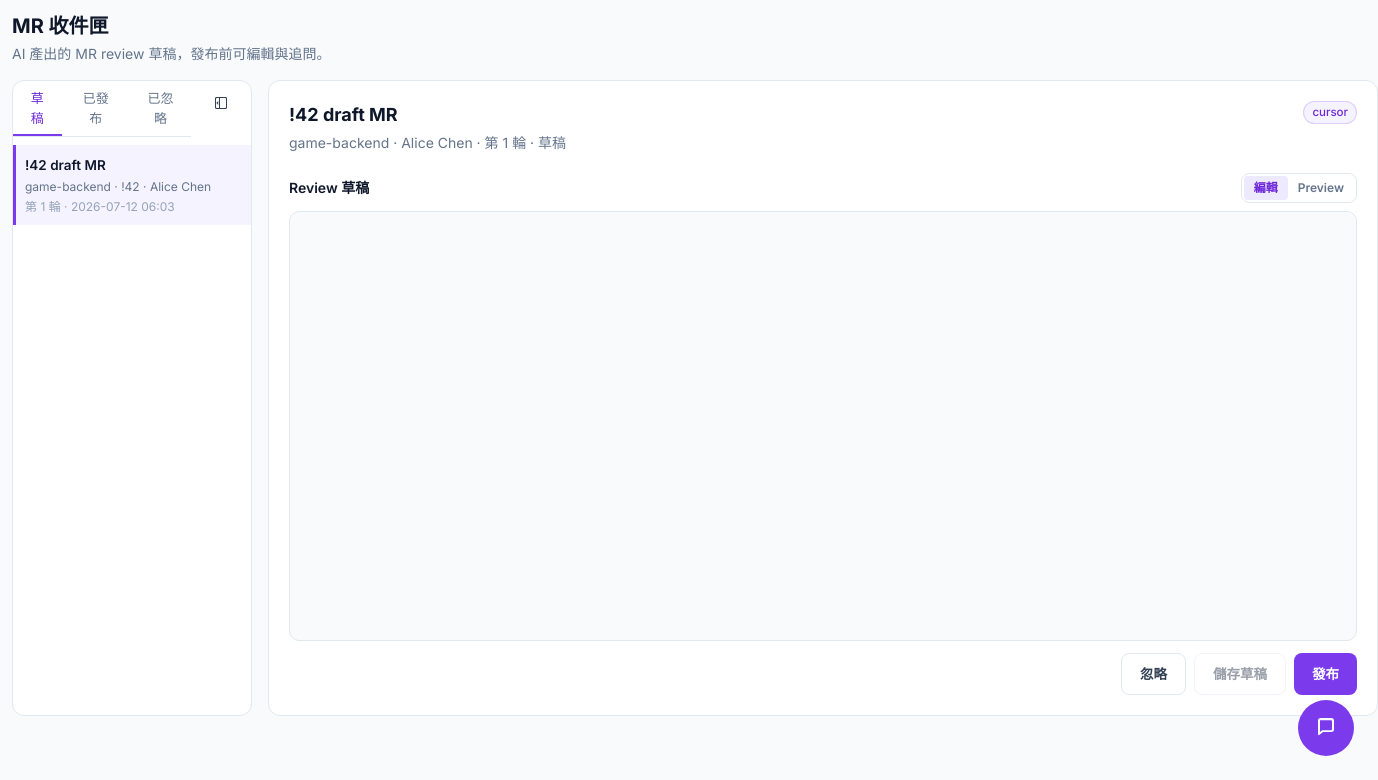
Test case: MrInboxPage › save sends base_hash and surfaces conflict choices on 409
Type "local save" into the text box labelled "Review 草稿" at (823, 426), box [289,211,1357,641]
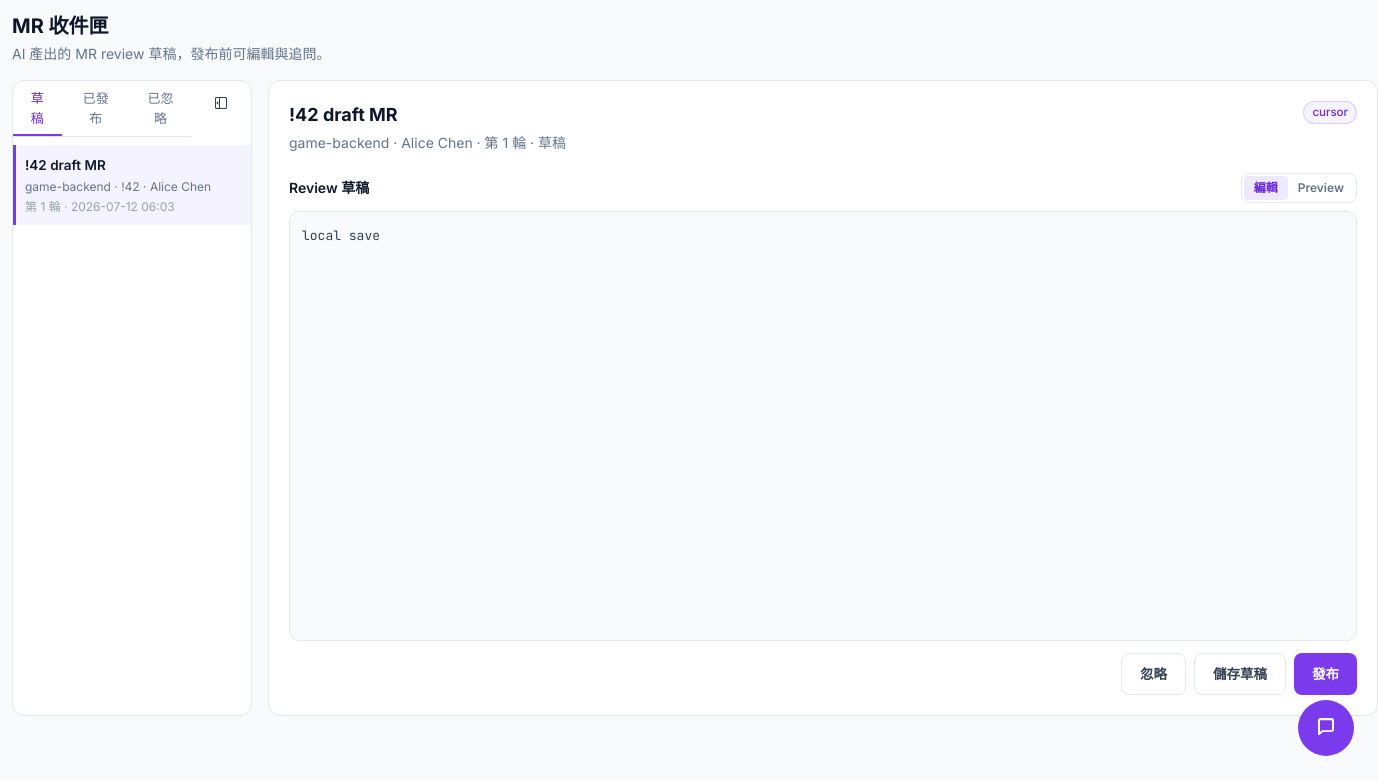
Click the button "儲存草稿" at (1240, 674), box [1194,653,1286,695]
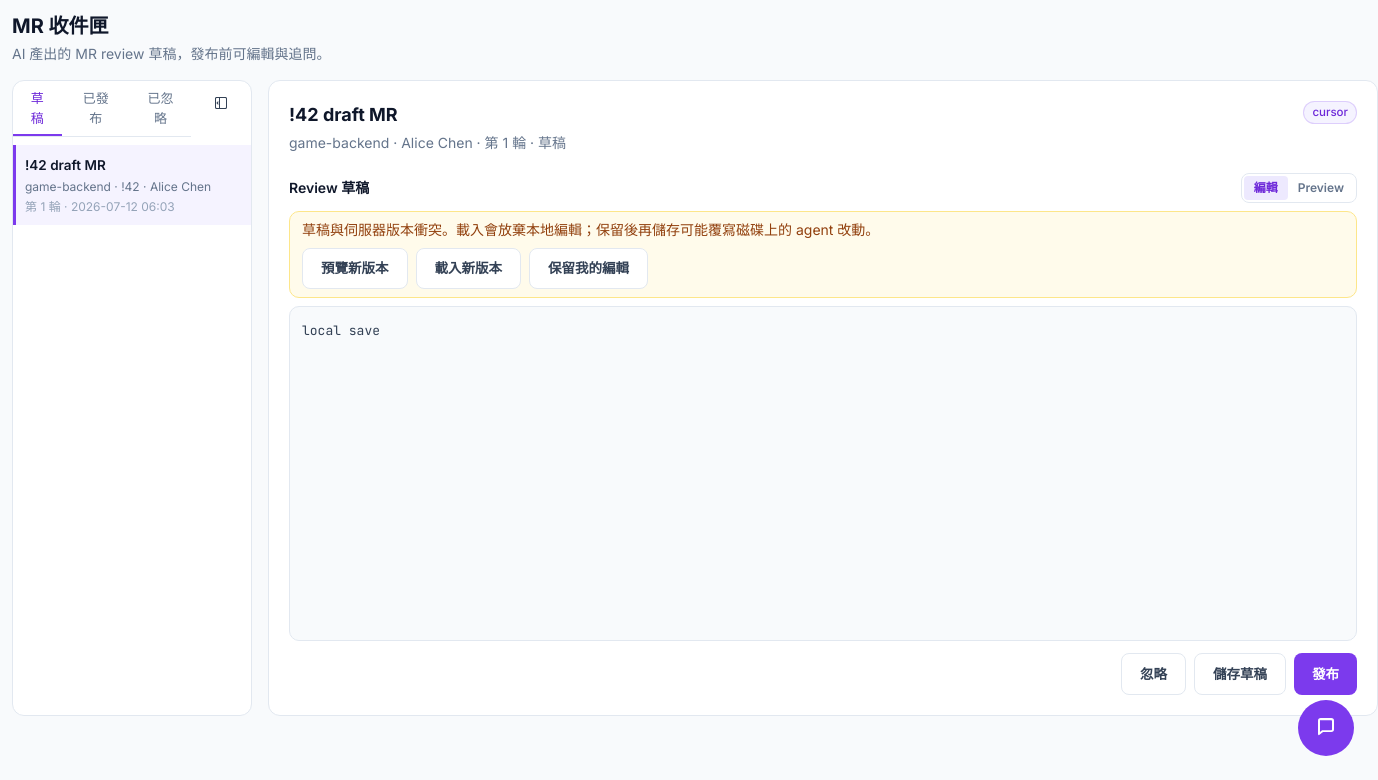
Check: the button "預覽新版本" is shown, box [302,248,408,289]
Check: the button "載入新版本" is shown, box [416,248,521,289]
Check: the button "保留我的編輯" is shown, box [529,248,648,289]
